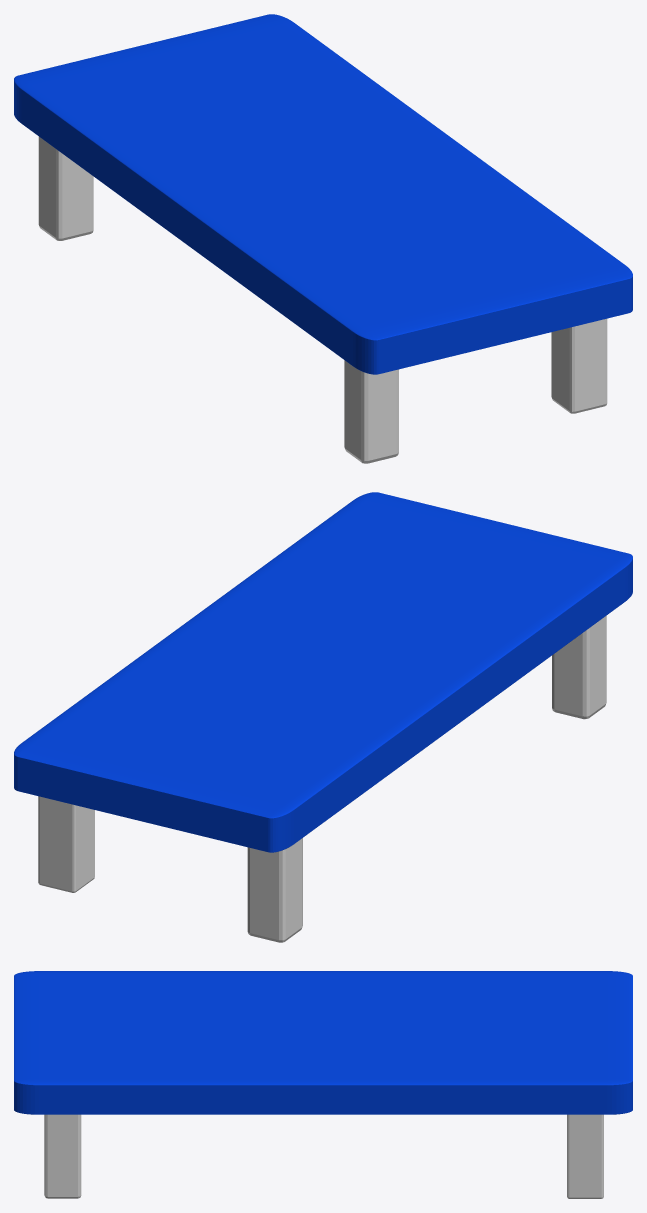
The picture shows the model from 3 angles, top to bottom: view 1: azimuth 30°, elevation 25°; view 2: azimuth 150°, elevation 25°; view 3: azimuth 270°, elevation 25°; orthographic projection. The views are drawn at different scales.
Visible parts, largest first — view 1: Cube, 立方体, 立方体.001, 立方体.003; view 2: Cube, 立方体.003, 立方体.002, 立方体; view 3: Cube, 立方体.001, 立方体.002.
Boxes of the visible parts, left/top/right/bottom form: Cube: left=14, top=14, right=632, bottom=374; 立方体: left=344, top=360, right=398, bottom=463; 立方体.001: left=551, top=318, right=607, bottom=413; 立方体.003: left=38, top=136, right=93, bottom=240; Cube: left=14, top=492, right=632, bottom=852; 立方体.003: left=247, top=838, right=302, bottom=942; 立方体.002: left=38, top=796, right=94, bottom=892; 立方体: left=552, top=615, right=606, bottom=719; Cube: left=14, top=971, right=632, bottom=1114; 立方体.001: left=44, top=1114, right=81, bottom=1198; 立方体.002: left=567, top=1114, right=603, bottom=1198.
Size of the model in its own units: 221 by 110 by 507.
